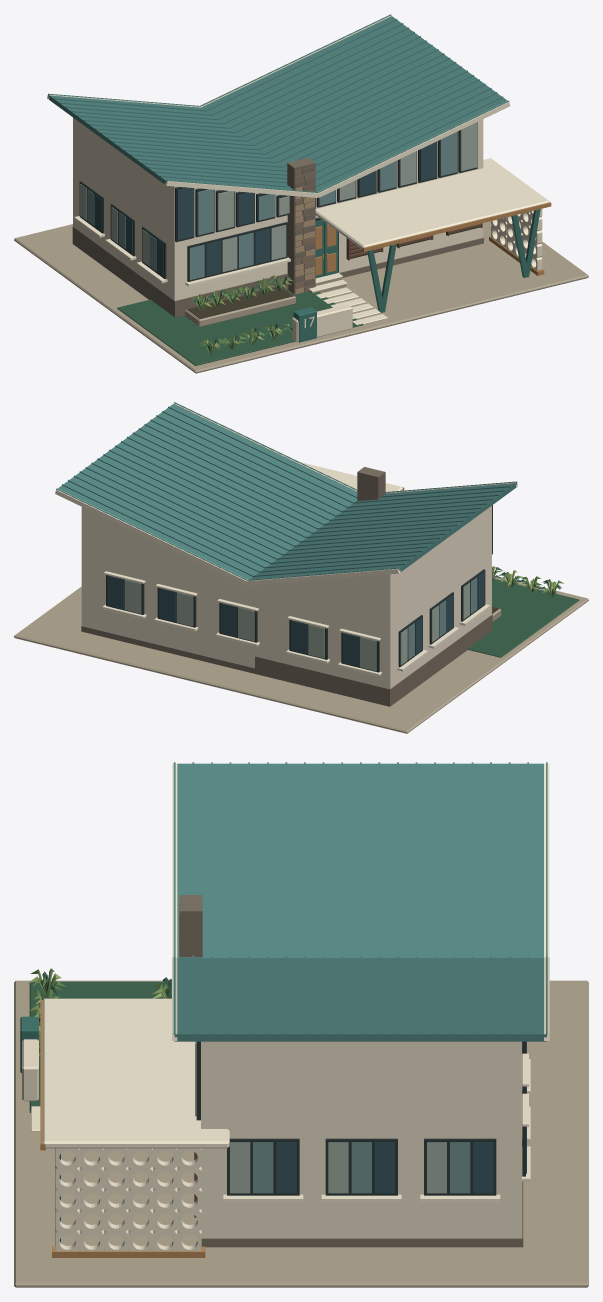
3 renders of one model, top to bottom at view 1: azimuth 30°, elevation 25°; view 2: azimuth 150°, elevation 25°; view 3: azimuth 270°, elevation 25°, orthographic. The views are drawn at different scales.
Visible parts, largest first — view 1: Folded copper roof, Split-level villa, Forecourt, Car porch, Aluminium ribbon casements, Flagstone pier, Garden beds, Pandan planting, Cast circle screen, Entrance joinery, Louvred shutters, Entrance stair; view 2: Folded copper roof, Split-level villa, Forecourt, Casements and sills, Aluminium ribbon casements, Flagstone pier, Pandan planting, Car porch; view 3: Folded copper roof, Split-level villa, Forecourt, Car porch, Aluminium ribbon casements, Cast circle screen, Flagstone pier, Casements and sills, Pandan planting.
Part boxes in pixels (x1,y1,x2,y2): Folded copper roof: [47, 14, 510, 197]; Split-level villa: [72, 117, 483, 317]; Forecourt: [14, 221, 588, 373]; Car porch: [315, 158, 551, 312]; Aluminium ribbon casements: [74, 181, 290, 286]; Flagstone pier: [287, 157, 315, 294]; Garden beds: [185, 287, 295, 326]; Pandan planting: [191, 275, 293, 355]; Cast circle screen: [489, 208, 544, 275]; Entrance joinery: [315, 217, 338, 278]; Louvred shutters: [346, 223, 482, 260]; Entrance stair: [308, 273, 347, 293]; Folded copper roof: [55, 402, 518, 585]; Split-level villa: [81, 505, 492, 706]; Forecourt: [14, 575, 588, 733]; Casements and sills: [102, 571, 381, 675]; Aluminium ribbon casements: [397, 569, 490, 671]; Flagstone pier: [357, 467, 385, 501]; Pandan planting: [492, 566, 563, 602]; Car porch: [301, 462, 404, 491]; Folded copper roof: [172, 762, 549, 1041]; Split-level villa: [195, 1041, 523, 1247]; Forecourt: [14, 980, 588, 1287]; Car porch: [40, 998, 229, 1246]; Aluminium ribbon casements: [223, 1138, 500, 1202]; Cast circle screen: [52, 1148, 205, 1257]; Flagstone pier: [179, 895, 202, 957]; Casements and sills: [522, 1041, 530, 1181]; Pandan planting: [28, 968, 171, 1055].
Size of the model in its own units: 18.25 by 6.71 by 14.6.
